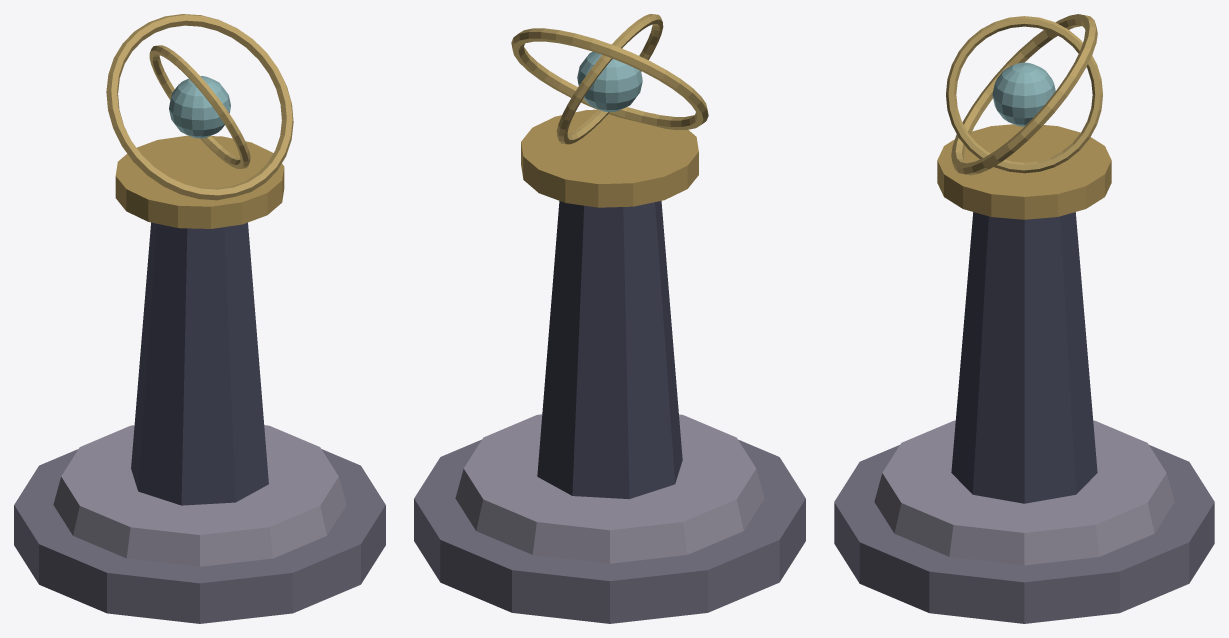
File: xingyin-environment-v1__starwatch_marker.glb
The picture shows the model from 3 angles, left to right: view 1: azimuth 30°, elevation 25°; view 2: azimuth 150°, elevation 25°; view 3: azimuth 270°, elevation 25°; orthographic projection. The views are drawn at different scales.
Visible parts, largest first — view 1: starwatch_marker; view 2: starwatch_marker; view 3: starwatch_marker.
Part boxes in pixels (x1,y1,x2,y2): starwatch_marker: [14, 14, 385, 623]; starwatch_marker: [414, 14, 805, 623]; starwatch_marker: [834, 14, 1214, 623].
Bounding box in the file's own units: 1.66 × 2.49 × 1.66.
